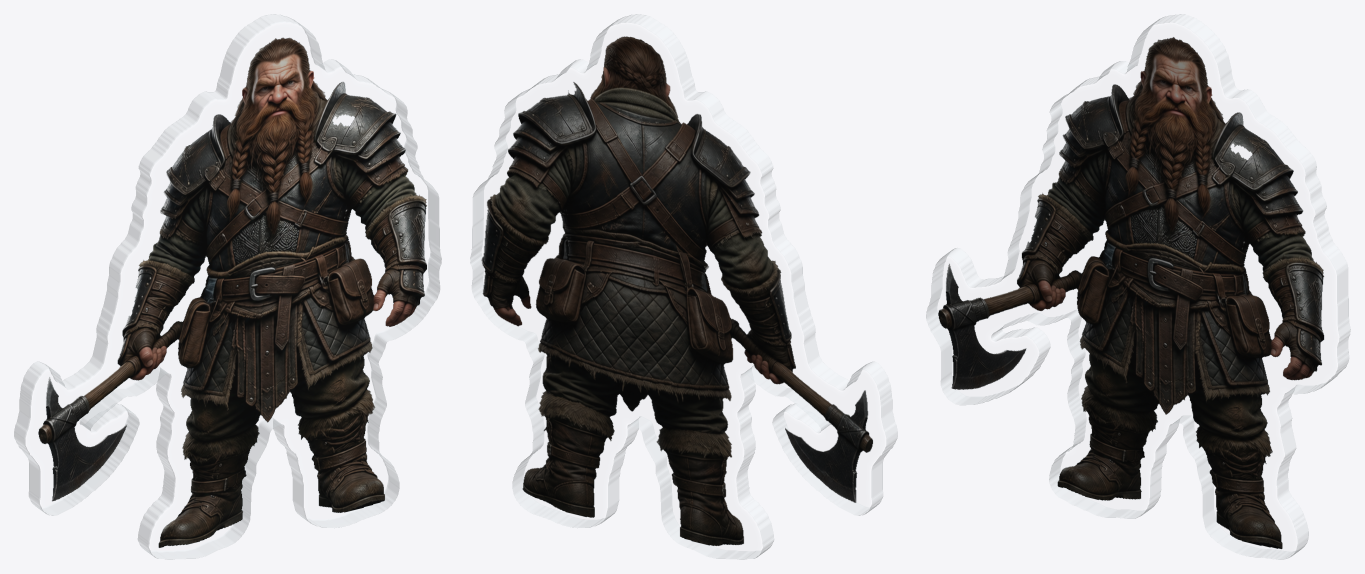
Rendered from brom-v64.glb.
3 views of the same model, side by side, from view 1: azimuth 30°, elevation 25°; view 2: azimuth 150°, elevation 25°; view 3: azimuth 330°, elevation 25° (orthographic).
Visible parts, largest first — view 1: dwarf-warrior_standee_v64; view 2: dwarf-warrior_standee_v64; view 3: dwarf-warrior_standee_v64.
Boxes of the visible parts, x1,y1,x2,y2 form: dwarf-warrior_standee_v64: (14,14,441,559); dwarf-warrior_standee_v64: (470,14,897,559); dwarf-warrior_standee_v64: (926,14,1350,559).
Bounding box in the file's own units: 0.8009 × 0.9543 × 0.04.
Materials: 3 (2 with a texture image).
